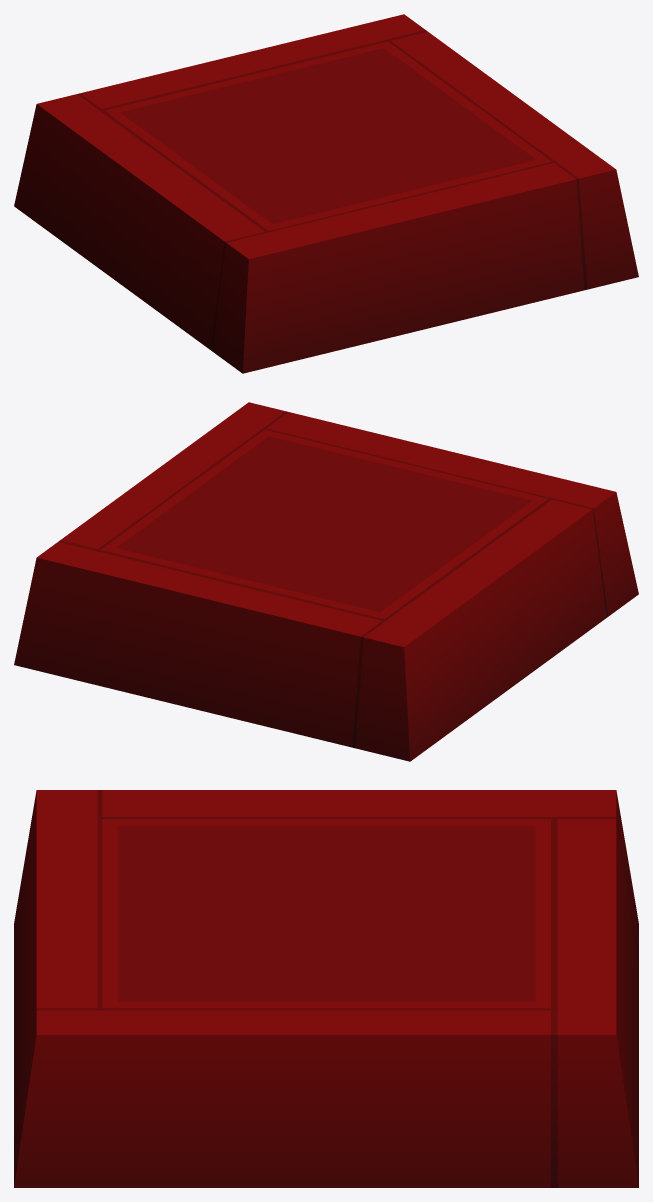
File: geology-landforms-citysidewalktile_v1.fbx
3 renders of one model, top to bottom at view 1: azimuth 30°, elevation 25°; view 2: azimuth 150°, elevation 25°; view 3: azimuth 270°, elevation 25°, orthographic. The views are drawn at different scales.
Visible parts, largest first — view 1: CitySidewalkTile_v1; view 2: CitySidewalkTile_v1; view 3: CitySidewalkTile_v1.
Boxes of the visible parts, x1=… form: CitySidewalkTile_v1: x1=14, y1=14, x2=638, y2=373; CitySidewalkTile_v1: x1=14, y1=402, x2=638, y2=761; CitySidewalkTile_v1: x1=14, y1=790, x2=638, y2=1187.
Bounding box in the file's own units: 9.08 × 2.67 × 9.08.
